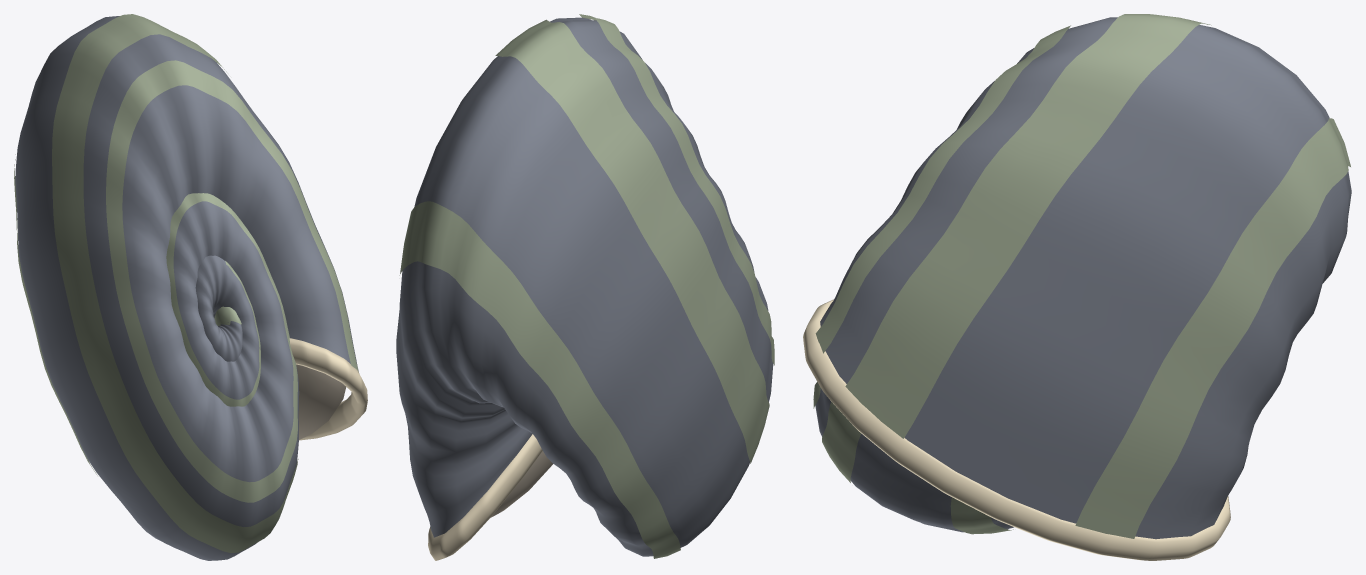
File: creature.spiralshell.glb
The picture shows the model from 3 angles, left to right: view 1: azimuth 30°, elevation 25°; view 2: azimuth 150°, elevation 25°; view 3: azimuth 270°, elevation 25°; orthographic projection. The views are drawn at different scales.
Parts seen in each view (by area): view 1: BackSkin, Shell, StarchCore, Skin; view 2: BackSkin, Shell, StarchCore, Skin; view 3: BackSkin, Shell, StarchCore.
Part boxes in pixels (x1,y1,x2,y2): BackSkin: (15, 16, 358, 560); Shell: (14, 14, 358, 553); StarchCore: (289, 338, 367, 440); Skin: (296, 364, 346, 439); BackSkin: (396, 17, 773, 556); Shell: (399, 14, 774, 558); StarchCore: (428, 434, 542, 560); Skin: (490, 451, 552, 517); BackSkin: (815, 17, 1351, 539); Shell: (813, 14, 1350, 538); StarchCore: (803, 299, 1230, 560).
Bounding box in the file's own units: 0.9808 × 2.1 × 1.95.
